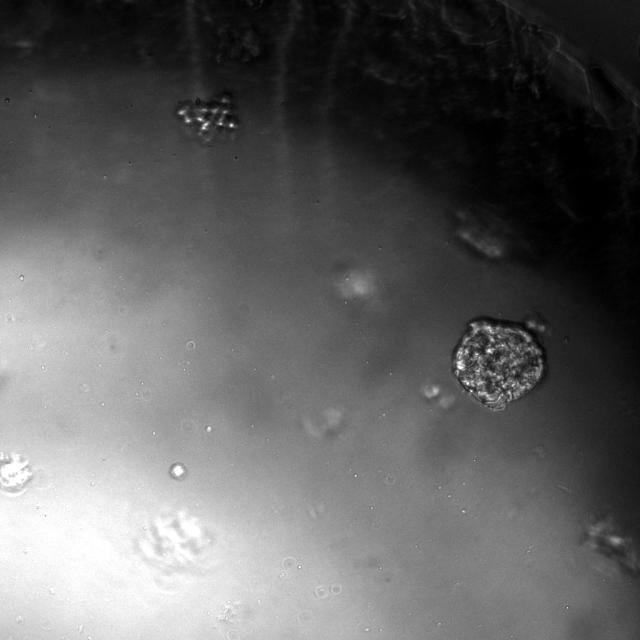organoid: (452, 317, 546, 411), (176, 92, 239, 142), (0, 453, 32, 493), (169, 462, 187, 480)
